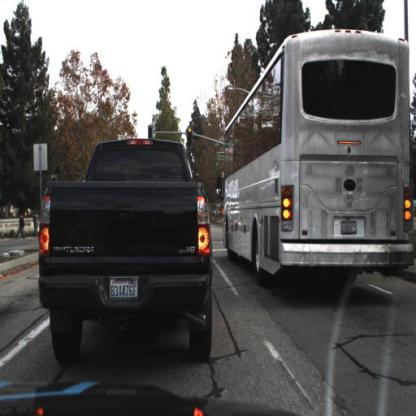car: (44, 141, 210, 352)
pedestrian: (18, 213, 27, 244)
trafficLight: (149, 124, 154, 141)
trafficLight-Red: (187, 127, 194, 147)
truck: (224, 22, 414, 290)
